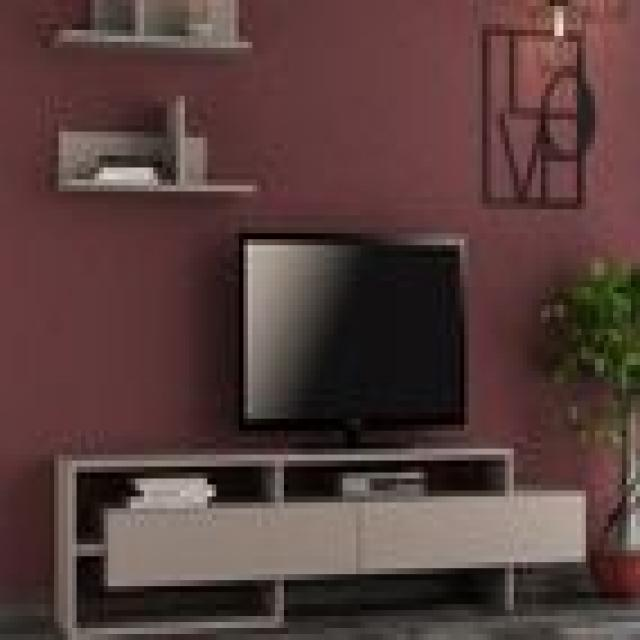others: (225, 215, 487, 443)
